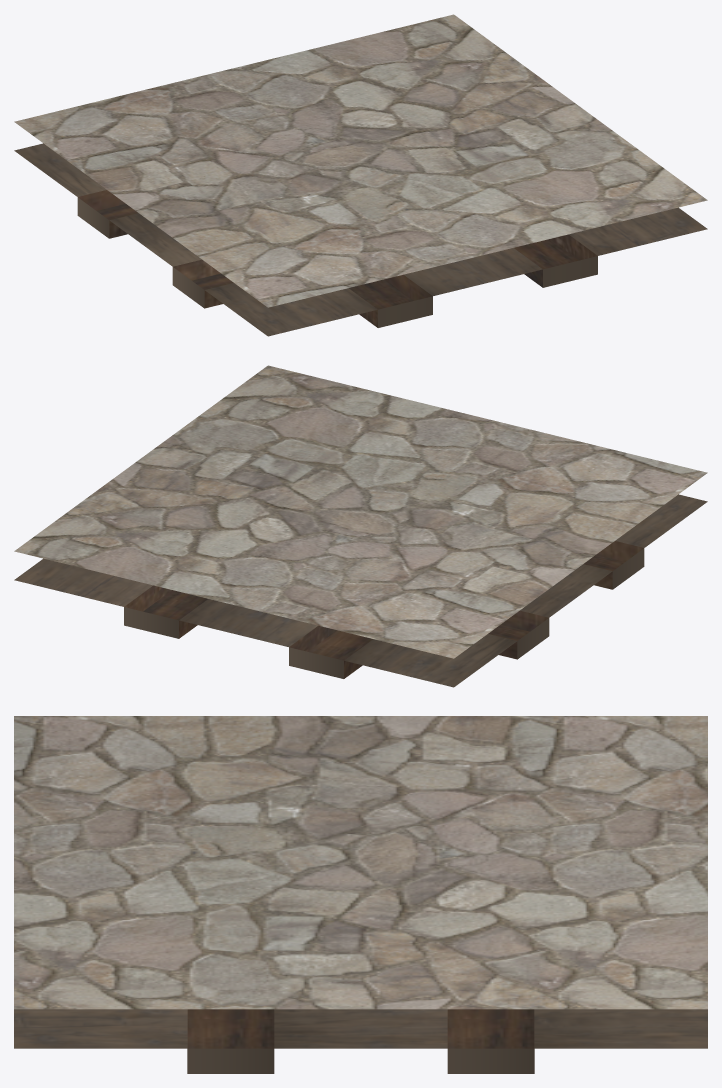
The model's file is floor_sm_stone.glb.
The picture shows the model from 3 angles, top to bottom: view 1: azimuth 30°, elevation 25°; view 2: azimuth 150°, elevation 25°; view 3: azimuth 270°, elevation 25°; orthographic projection. The views are drawn at different scales.
Parts seen in each view (by area): view 1: floor_sm_stone; view 2: floor_sm_stone; view 3: floor_sm_stone.
Boxes of the visible parts, x1,y1,x2,y2 form: floor_sm_stone: (14, 14, 707, 336); floor_sm_stone: (14, 365, 707, 687); floor_sm_stone: (14, 716, 707, 1073).
Size of the model in its own units: 8 by 0.8221 by 8.
Materials: 3 (3 with a texture image).
